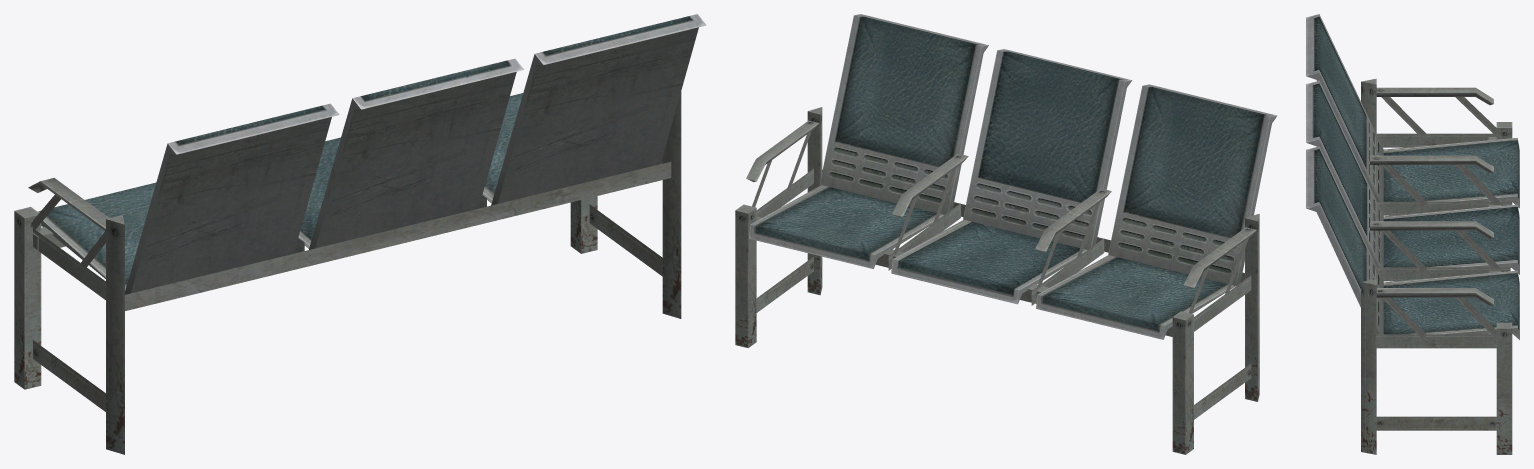
Rendered from Prop_Yyyz02_lod2.glb.
3 views of the same model, side by side, from view 1: azimuth 30°, elevation 25°; view 2: azimuth 150°, elevation 25°; view 3: azimuth 270°, elevation 25° (orthographic). The views are drawn at different scales.
Parts seen in each view (by area): view 1: xiutz_yyyz_02_lod2; view 2: xiutz_yyyz_02_lod2; view 3: xiutz_yyyz_02_lod2.
Part boxes in pixels (x1,y1,x2,y2): xiutz_yyyz_02_lod2: (14, 14, 706, 454); xiutz_yyyz_02_lod2: (735, 14, 1277, 454); xiutz_yyyz_02_lod2: (1306, 14, 1519, 454).
Bounding box in the file's own units: 3.1 × 1.7 × 1.36.
1 material, 1 textured.
